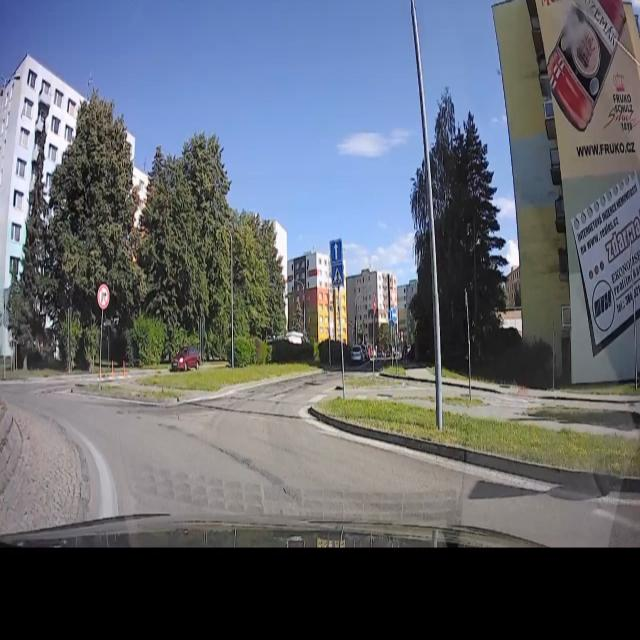Pedestrian crosswalk: (330, 264, 345, 285)
